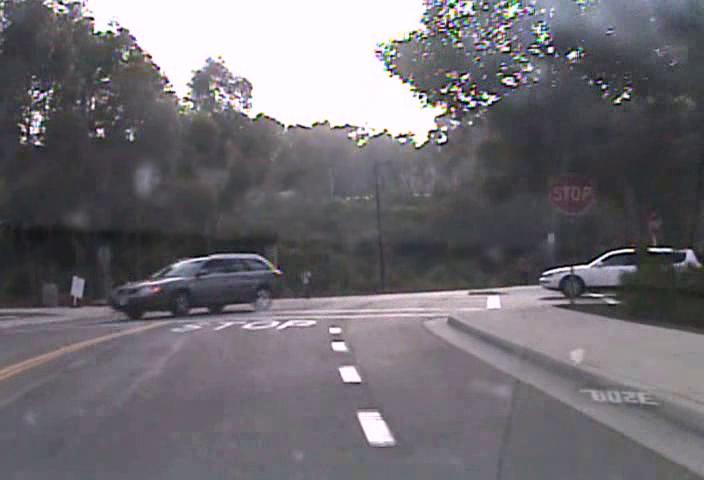stop: (548, 170, 595, 216)
